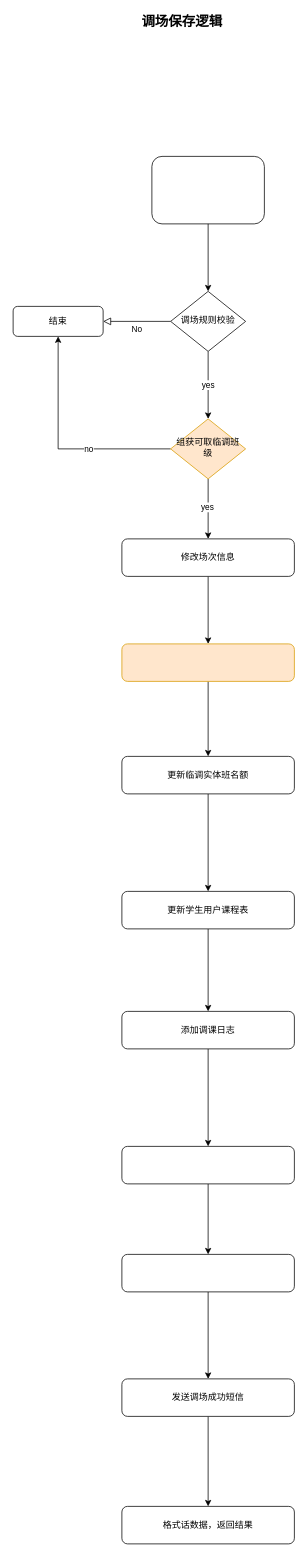
The diagram is 308 pixels wide and 1557 high, and some of its shapes have lost their labels. Each missing label, with the box of its shape:
发送队列消息，消费消息: (121, 1254, 294, 1292)
处理用户场次直播相关的缓存: (121, 1146, 294, 1184)
处理虚拟班逻辑: (121, 643, 294, 681)
调场主要入参： stu_cou_id stu_id plan_id new_plan_id: (151, 156, 264, 224)
